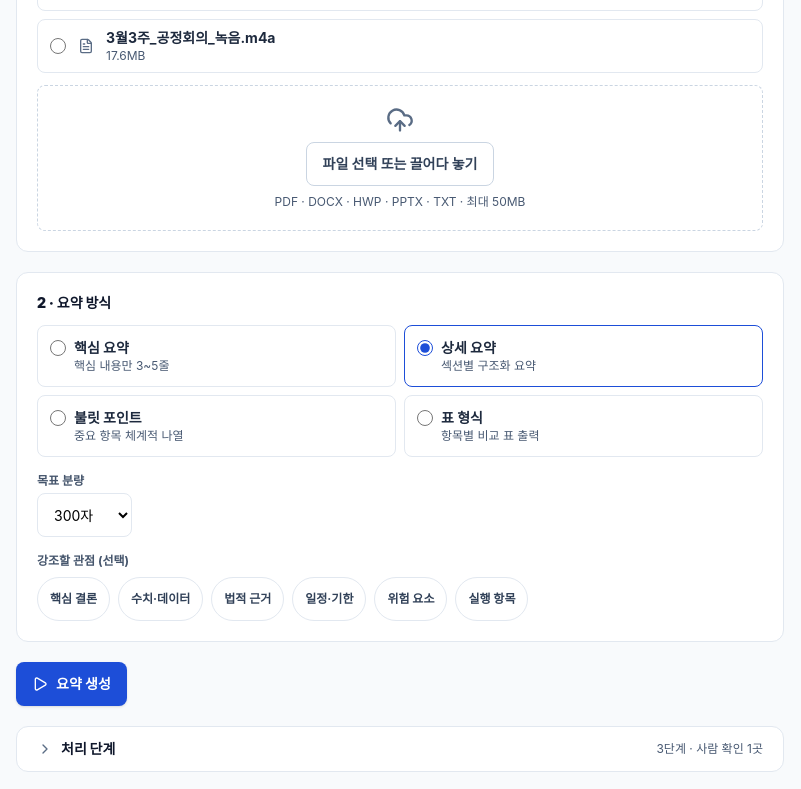
Test case: SummaryPage › 요약을 생성하면 결과와 통계가 나온다
The width and height of the screenshot is (801, 789).
(page scrolled)
Click the button "요약 생성" at point(71, 684), box [16,662,127,706]
(page scrolled)
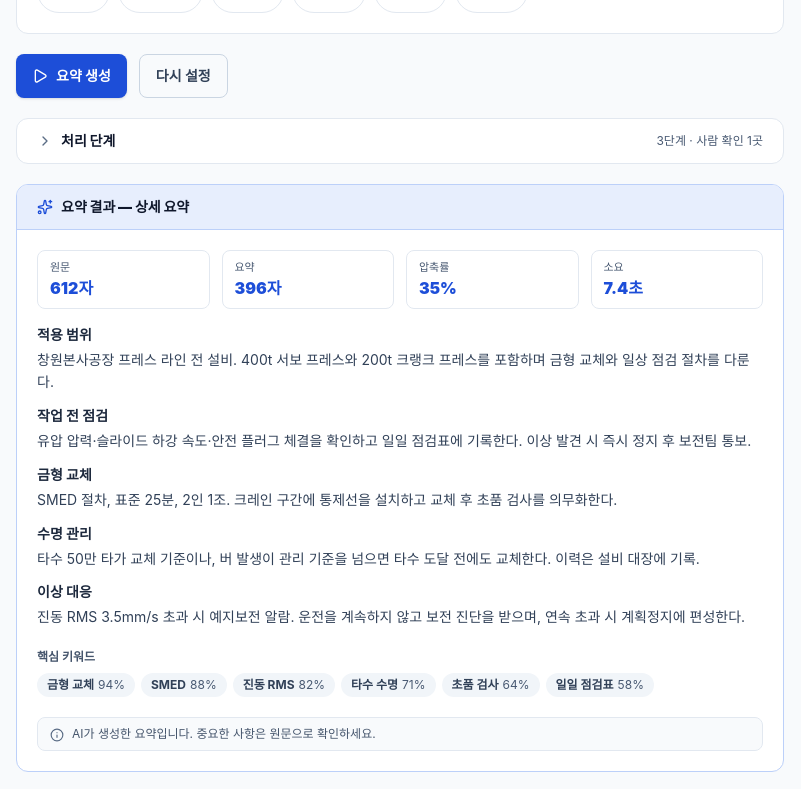
Now the element "요약 결과" shows "적용 범위", box [37,326,92,342]
Now the element "요약 결과" shows "압축률", box [419,260,449,274]
